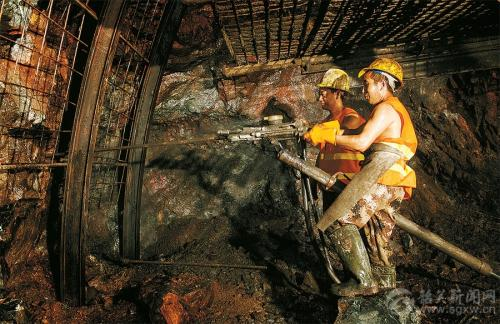boots: (328, 229, 380, 298)
gloves: (303, 120, 341, 146)
hard-hat: (358, 57, 404, 85), (316, 68, 351, 92)
person: (325, 57, 418, 303), (286, 61, 364, 290)
vest: (353, 94, 419, 187), (314, 106, 361, 179)
